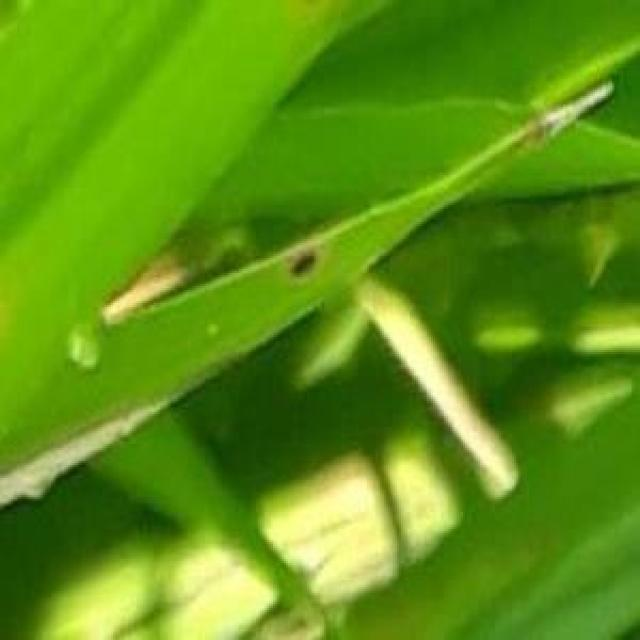Brown_Spot: (288, 248, 320, 278)
